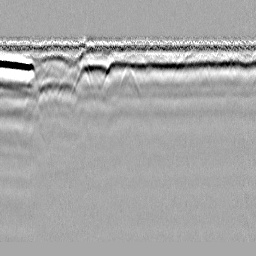cavity: (119, 67, 141, 96)
